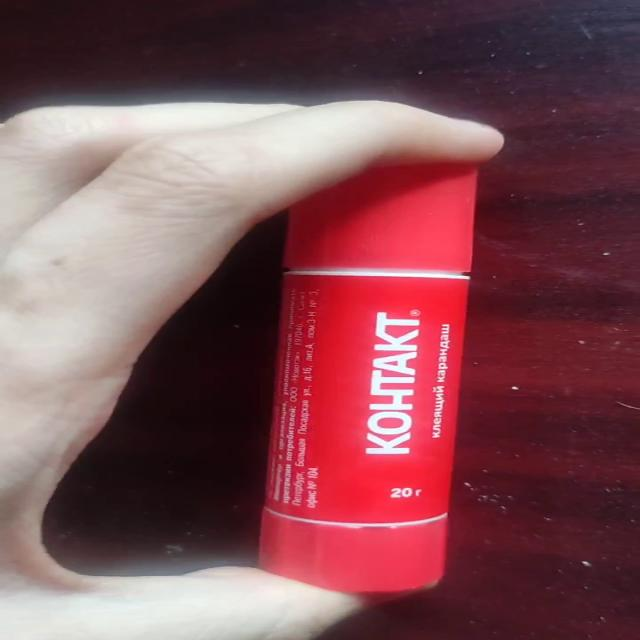glue: (255, 156, 480, 594)
